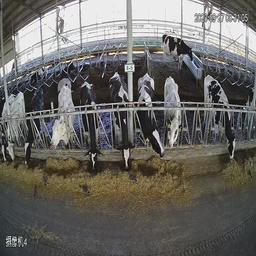cow: (203, 74, 234, 161), (108, 71, 133, 172), (79, 80, 103, 176), (136, 70, 158, 170), (23, 85, 45, 164), (51, 85, 77, 148), (163, 75, 181, 149), (6, 92, 25, 162), (161, 34, 191, 70), (59, 62, 77, 88), (29, 66, 48, 84)
